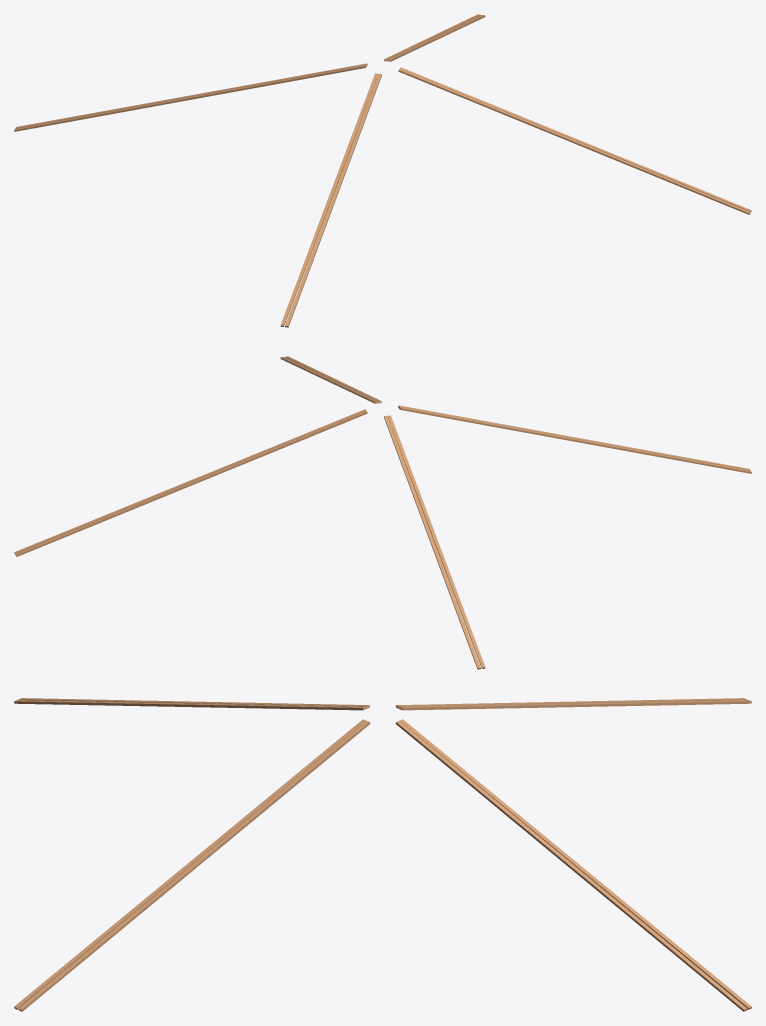
File: Kanten_solo.fbx
3 renders of one model, top to bottom at view 1: azimuth 30°, elevation 25°; view 2: azimuth 150°, elevation 25°; view 3: azimuth 270°, elevation 25°, orthographic. The views are drawn at different scales.
Parts seen in each view (by area): view 1: Konterlattung_Kanten.005, Konterlattung_Kanten.002, Konterlattung_Kanten.004, Konterlattung_Kanten.003, Konterlattung_Kanten.006, Konterlattung_Kanten.001; view 2: Konterlattung_Kanten, Konterlattung_Kanten.003, Konterlattung_Kanten.001, Konterlattung_Kanten.002, Konterlattung_Kanten.007, Konterlattung_Kanten.004; view 3: Konterlattung_Kanten.007, Konterlattung_Kanten.006, Konterlattung_Kanten, Konterlattung_Kanten.005, Konterlattung_Kanten.001, Konterlattung_Kanten.004, Konterlattung_Kanten.002, Konterlattung_Kanten.003.
Boxes of the visible parts, <box> form: Konterlattung_Kanten.005: <box>398,69,750,214</box>; Konterlattung_Kanten.002: <box>14,65,366,131</box>; Konterlattung_Kanten.004: <box>285,74,381,327</box>; Konterlattung_Kanten.003: <box>280,73,378,326</box>; Konterlattung_Kanten.006: <box>400,67,751,212</box>; Konterlattung_Kanten.001: <box>15,63,367,128</box>; Konterlattung_Kanten: <box>15,411,367,556</box>; Konterlattung_Kanten.003: <box>399,407,751,473</box>; Konterlattung_Kanten.001: <box>384,416,480,669</box>; Konterlattung_Kanten.002: <box>387,415,485,668</box>; Konterlattung_Kanten.007: <box>14,409,365,554</box>; Konterlattung_Kanten.004: <box>398,405,750,470</box>; Konterlattung_Kanten.007: <box>395,720,747,1011</box>; Konterlattung_Kanten.006: <box>18,720,370,1011</box>; Konterlattung_Kanten: <box>399,719,751,1009</box>; Konterlattung_Kanten.005: <box>14,719,366,1009</box>; Konterlattung_Kanten.001: <box>399,700,751,710</box>; Konterlattung_Kanten.004: <box>14,700,366,710</box>; Konterlattung_Kanten.002: <box>395,698,747,708</box>; Konterlattung_Kanten.003: <box>18,698,370,708</box>.
Size of the model in its own units: 1158 by 247 by 1158.
